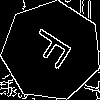F: (26, 26, 82, 76)
